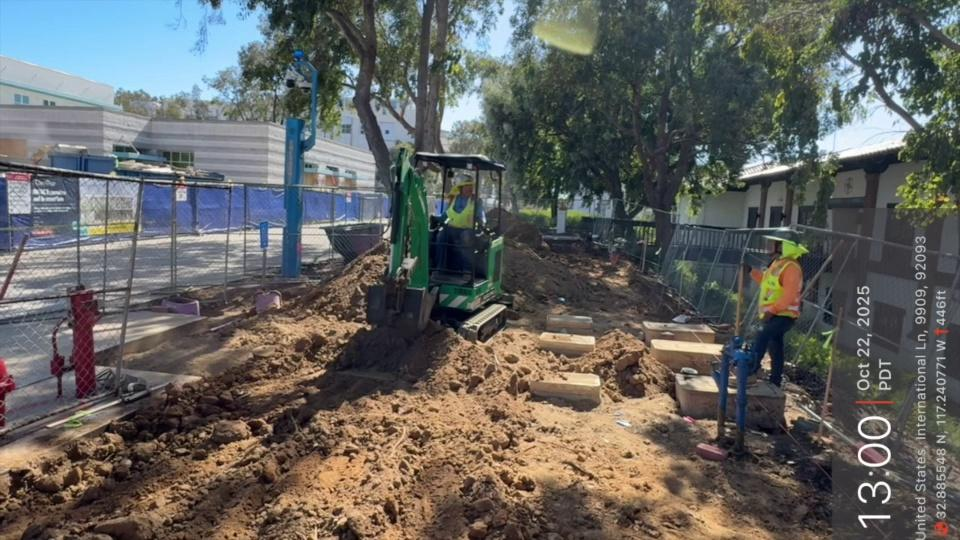Exacavator: (364, 140, 515, 345)
